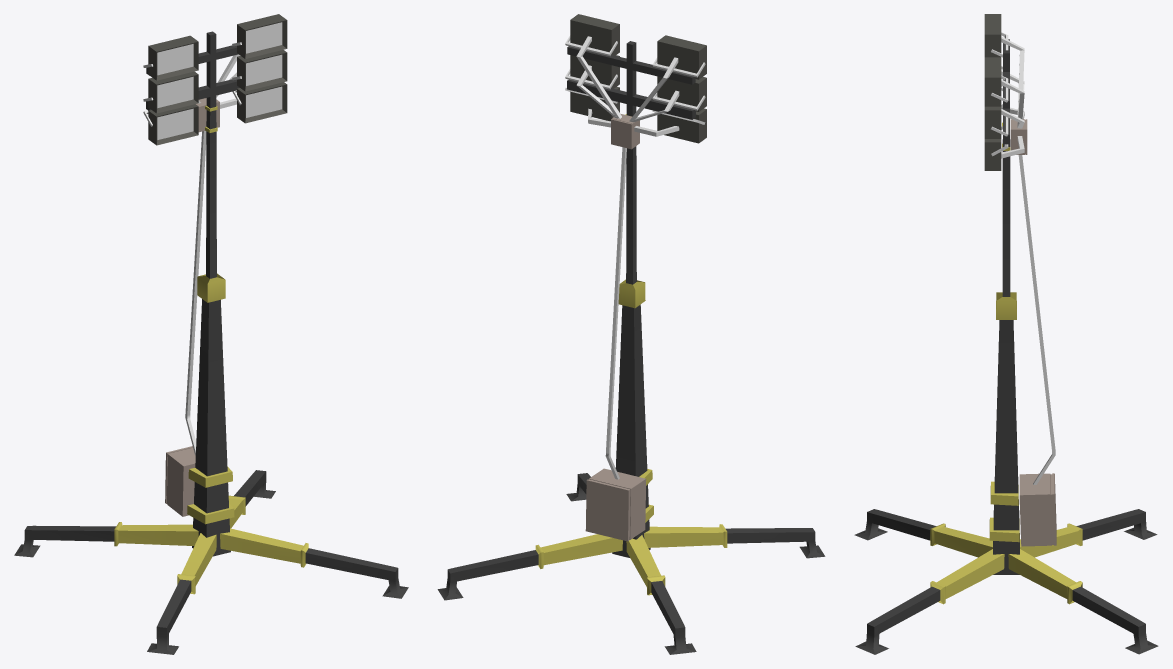
The model's file is LIGHT.fbx.
3 views of the same model, side by side, from view 1: azimuth 30°, elevation 25°; view 2: azimuth 150°, elevation 25°; view 3: azimuth 270°, elevation 25° (orthographic).
Visible parts, largest first — view 1: pCube1, pCube17, pCube27, pCube16, pCube3, pCube4, pCube19, pCube26, pCube6, pCube5, pCube8, pCube7 (+1 smaller); view 2: pCube1, pCube19, pCube18, pCube16, pCube27, pCube26, pCube3, pCube4, pCube6, pCube8, pCube5, pCube2 (+2 smaller); view 3: pCube1, pCube17, pCube18, pCube19, pCube16, pCube27, pCube26, pCube4, pCube3, pCube5, pCube7, pCube2.
Boxes of the visible parts, x1=… form: pCube1: x1=146, y1=31, x2=239, y2=556; pCube17: x1=220, y1=528, x2=408, y2=598; pCube27: x1=14, y1=522, x2=198, y2=557; pCube16: x1=147, y1=533, x2=216, y2=654; pCube3: x1=148, y1=35, x2=198, y2=80; pCube4: x1=237, y1=14, x2=287, y2=58; pCube19: x1=165, y1=446, x2=195, y2=516; pCube26: x1=185, y1=130, x2=206, y2=454; pCube6: x1=148, y1=71, x2=198, y2=113; pCube5: x1=237, y1=50, x2=287, y2=91; pCube8: x1=148, y1=104, x2=198, y2=145; pCube7: x1=237, y1=82, x2=287, y2=123; pCube1: x1=567, y1=41, x2=695, y2=557; pCube19: x1=585, y1=468, x2=646, y2=541; pCube18: x1=437, y1=534, x2=622, y2=600; pCube16: x1=644, y1=524, x2=825, y2=558; pCube27: x1=626, y1=535, x2=696, y2=654; pCube26: x1=605, y1=147, x2=626, y2=479; pCube3: x1=657, y1=35, x2=706, y2=79; pCube4: x1=570, y1=14, x2=619, y2=55; pCube6: x1=657, y1=76, x2=706, y2=111; pCube8: x1=657, y1=108, x2=706, y2=143; pCube5: x1=570, y1=55, x2=619, y2=88; pCube2: x1=611, y1=113, x2=639, y2=149; pCube1: x1=989, y1=39, x2=1019, y2=574; pCube17: x1=855, y1=549, x2=1004, y2=654; pCube18: x1=1008, y1=549, x2=1158, y2=654; pCube19: x1=1019, y1=473, x2=1056, y2=546; pCube16: x1=854, y1=509, x2=992, y2=557; pCube27: x1=1020, y1=509, x2=1157, y2=557; pCube26: x1=1018, y1=155, x2=1055, y2=484; pCube4: x1=984, y1=57, x2=1001, y2=106; pCube3: x1=984, y1=14, x2=1001, y2=57; pCube5: x1=984, y1=106, x2=1001, y2=138; pCube7: x1=984, y1=139, x2=1001, y2=170; pCube2: x1=1010, y1=119, x2=1027, y2=154.
Size of the model in its own units: 18.35 by 36.17 by 18.35.
